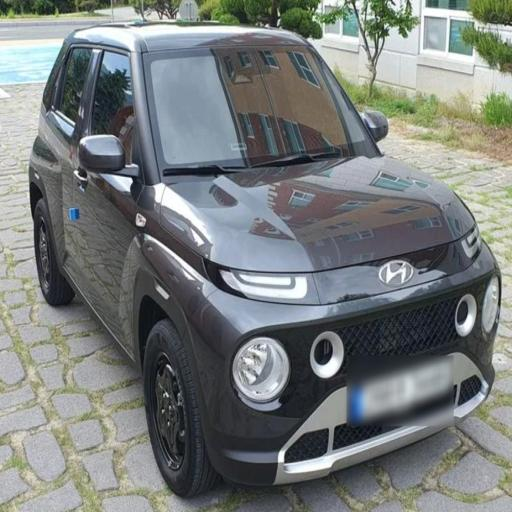dent: (134, 124, 330, 326)
